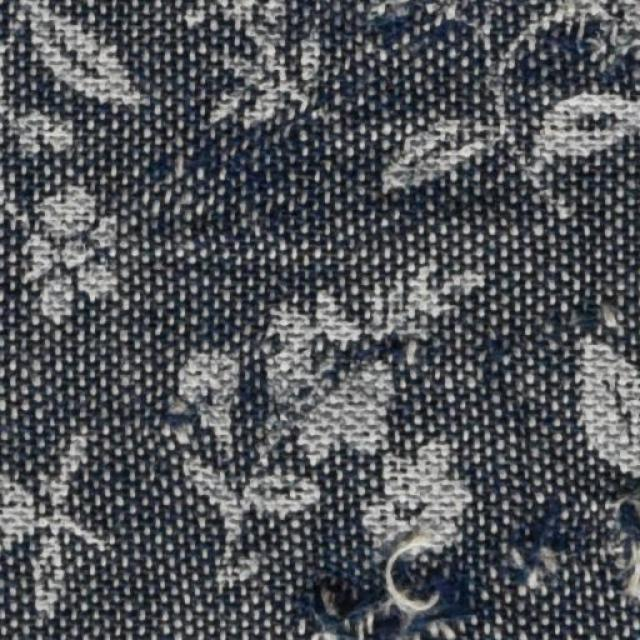Snag: (301, 490, 639, 640)
